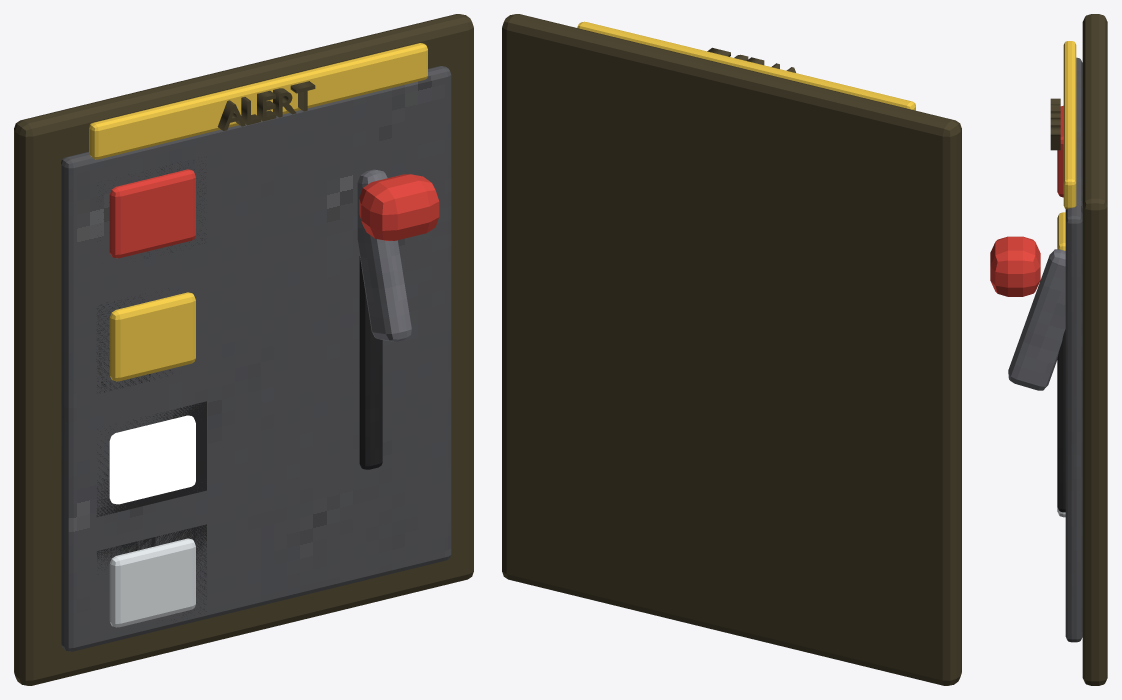
Rendered from decor_bridge_alert_panel.glb.
3 views of the same model, side by side, from view 1: azimuth 30°, elevation 25°; view 2: azimuth 150°, elevation 25°; view 3: azimuth 270°, elevation 25° (orthographic). The views are drawn at different scales.
Parts seen in each view (by area): view 1: DEC_BridgeAlertPanel__Face_Plate, DEC_BridgeAlertPanel__Backing_Plate, DEC_BridgeAlertPanel__Header_Strip, DEC_BridgeAlertPanel__Level_Light_4, DEC_BridgeAlertPanel__Level_Light_1, DEC_BridgeAlertPanel__Level_Light_2, DEC_BridgeAlertPanel__Level_Light_3, DEC_BridgeAlertPanel__Lever_Arm, DEC_BridgeAlertPanel__Lever_Grip, DEC_BridgeAlertPanel__Lever_Slot, DEC_BridgeAlertPanel__Level_Bezel_2, DEC_BridgeAlertPanel__Header_Text (+1 smaller); view 2: DEC_BridgeAlertPanel__Backing_Plate, DEC_BridgeAlertPanel__Header_Strip; view 3: DEC_BridgeAlertPanel__Backing_Plate, DEC_BridgeAlertPanel__Face_Plate, DEC_BridgeAlertPanel__Lever_Arm, DEC_BridgeAlertPanel__Lever_Grip, DEC_BridgeAlertPanel__Header_Strip, DEC_BridgeAlertPanel__Lever_Slot, DEC_BridgeAlertPanel__Header_Text, DEC_BridgeAlertPanel__Level_Light_4, DEC_BridgeAlertPanel__Level_Light_3.
Part boxes in pixels (x1,y1,x2,y2): DEC_BridgeAlertPanel__Face_Plate: (61,66,451,651); DEC_BridgeAlertPanel__Backing_Plate: (14,14,473,685); DEC_BridgeAlertPanel__Header_Strip: (89,43,427,159); DEC_BridgeAlertPanel__Level_Light_4: (109,169,195,258); DEC_BridgeAlertPanel__Level_Light_1: (109,538,195,627); DEC_BridgeAlertPanel__Level_Light_2: (109,415,195,504); DEC_BridgeAlertPanel__Level_Light_3: (109,292,195,381); DEC_BridgeAlertPanel__Lever_Arm: (357,169,411,341); DEC_BridgeAlertPanel__Lever_Grip: (359,174,439,240); DEC_BridgeAlertPanel__Lever_Slot: (359,256,382,469); DEC_BridgeAlertPanel__Level_Bezel_2: (96,401,206,516); DEC_BridgeAlertPanel__Header_Text: (217,81,315,130); DEC_BridgeAlertPanel__Backing_Plate: (502,14,961,685); DEC_BridgeAlertPanel__Header_Strip: (577,21,915,110); DEC_BridgeAlertPanel__Backing_Plate: (1082,14,1107,685); DEC_BridgeAlertPanel__Face_Plate: (1065,57,1082,642); DEC_BridgeAlertPanel__Lever_Arm: (1008,249,1065,390); DEC_BridgeAlertPanel__Lever_Grip: (990,236,1040,296); DEC_BridgeAlertPanel__Header_Strip: (1063,41,1076,209); DEC_BridgeAlertPanel__Lever_Slot: (1057,329,1065,512); DEC_BridgeAlertPanel__Header_Text: (1050,98,1060,150); DEC_BridgeAlertPanel__Level_Light_4: (1057,105,1063,197); DEC_BridgeAlertPanel__Level_Light_3: (1057,212,1065,250).
Size of the model in its own units: 0.54 by 0.64 by 0.14.
8 materials, 3 textured.
